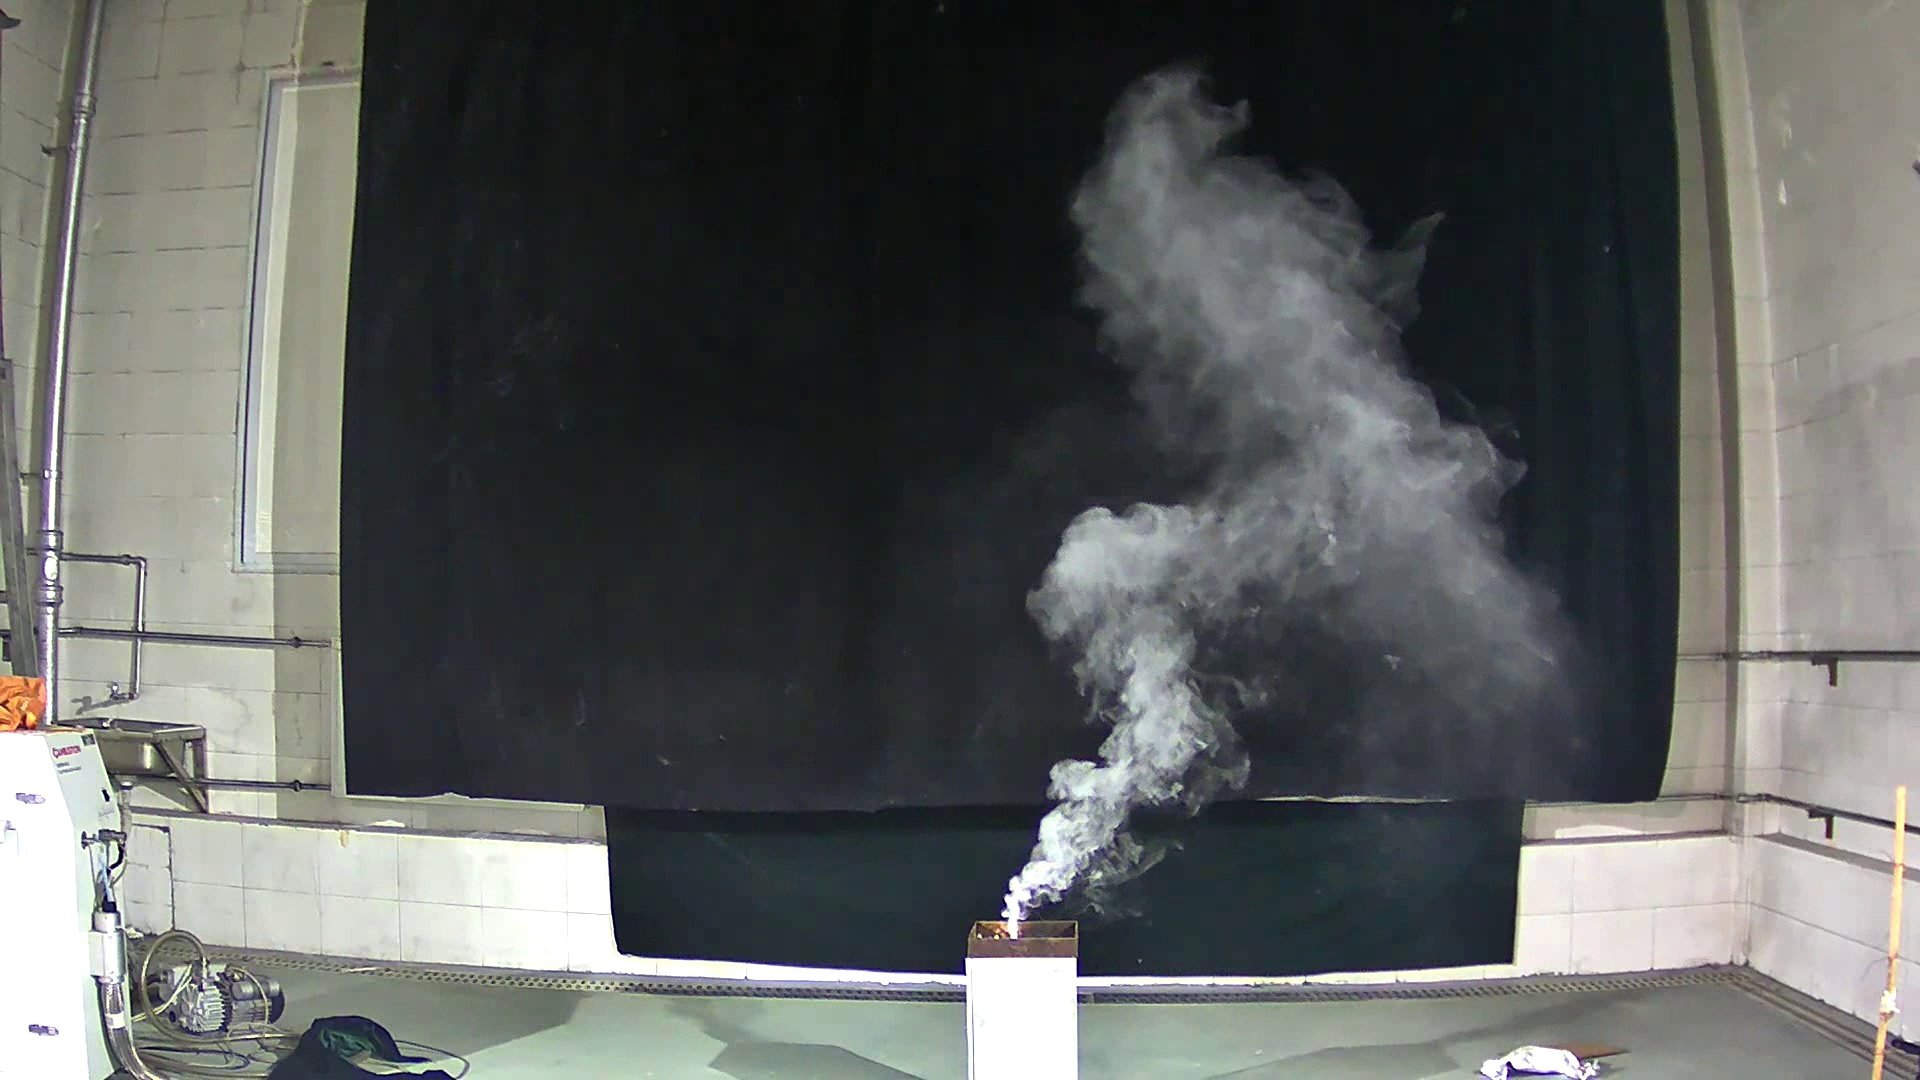smoke: (994, 74, 1542, 943)
